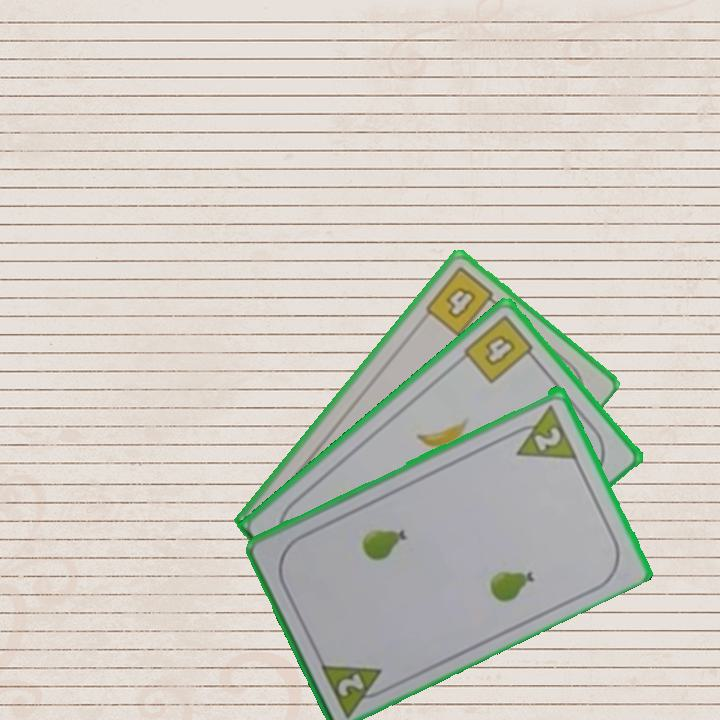2p: (530, 422, 565, 454), (334, 669, 368, 699)
4b: (421, 263, 504, 339), (460, 311, 541, 386)
